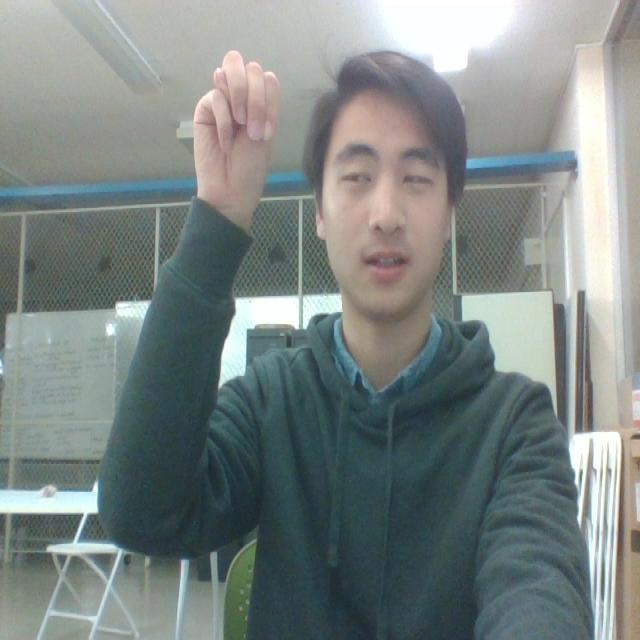M: (162, 36, 318, 236)
